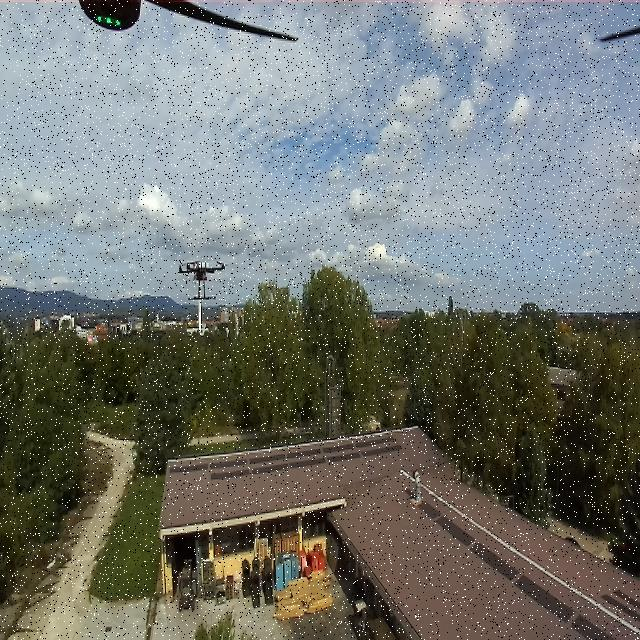UAV: (173, 252, 227, 296)
